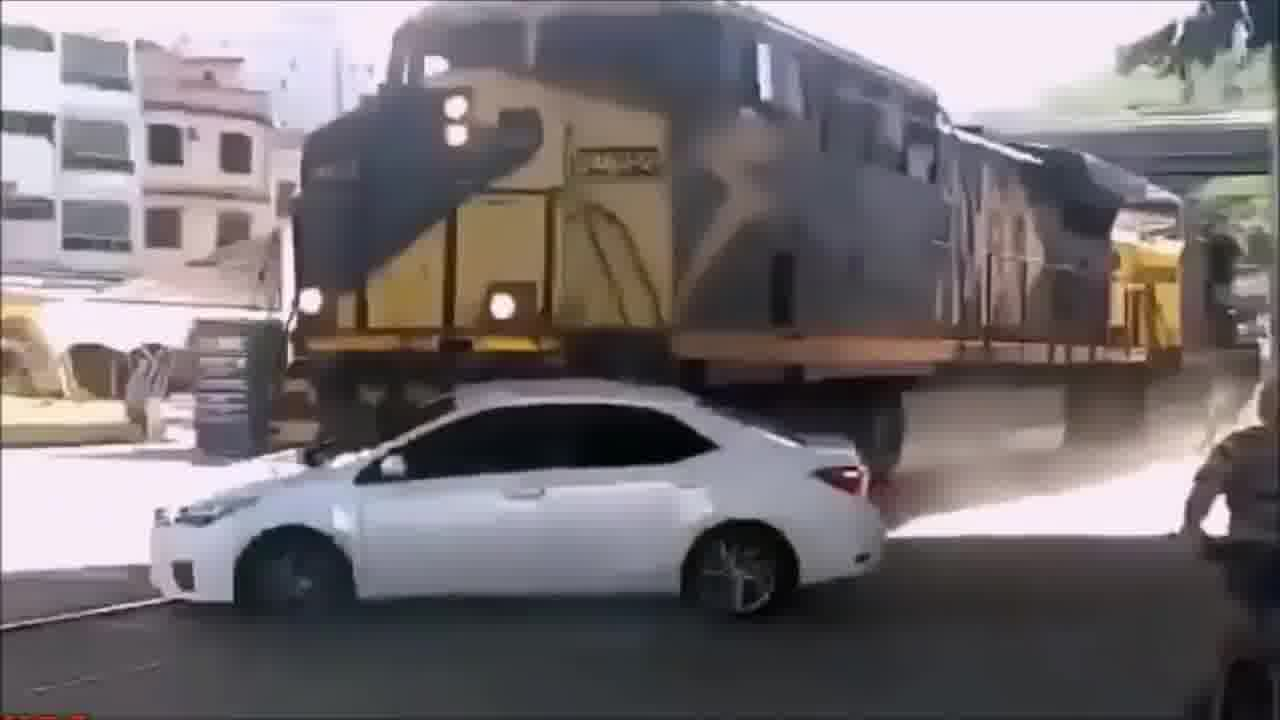crossing railway track: (137, 349, 968, 636)
